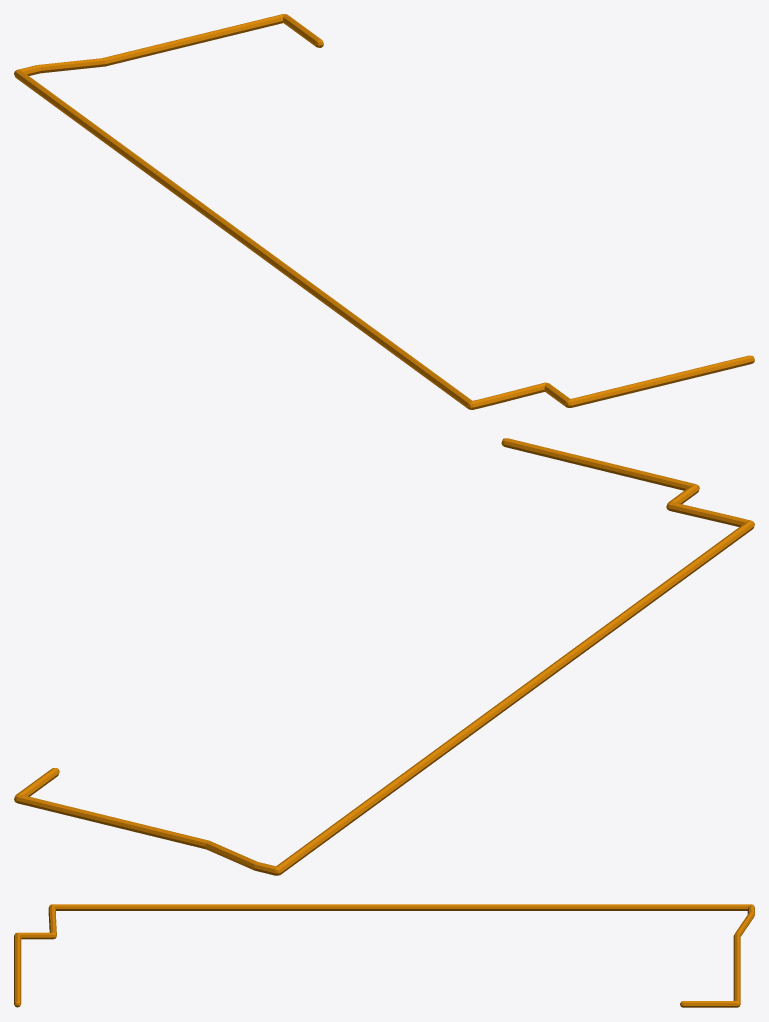
The picture shows the model from 3 angles, top to bottom: view 1: azimuth 30°, elevation 25°; view 2: azimuth 150°, elevation 25°; view 3: azimuth 270°, elevation 25°; orthographic projection. The views are drawn at different scales.
Bounding box in the file's own units: 658 × 20 × 2067.
